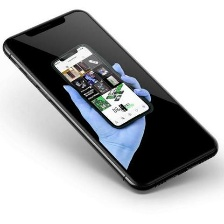phone: (1, 6, 220, 197)
